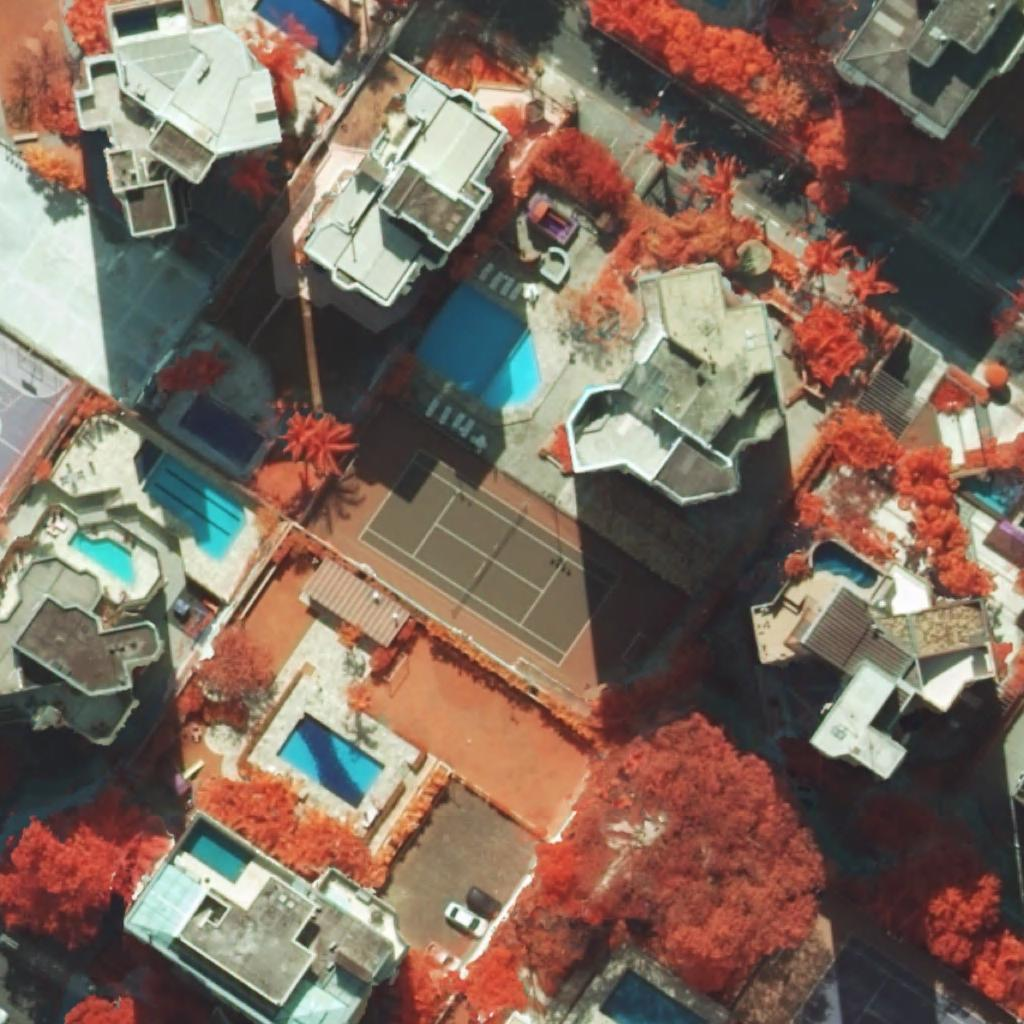pool: (412, 282, 542, 411), (142, 453, 247, 561), (276, 711, 385, 810), (251, 0, 362, 67), (178, 394, 265, 469), (599, 968, 708, 1024), (179, 820, 255, 884), (68, 531, 136, 585), (813, 541, 877, 588), (971, 481, 1007, 514)
